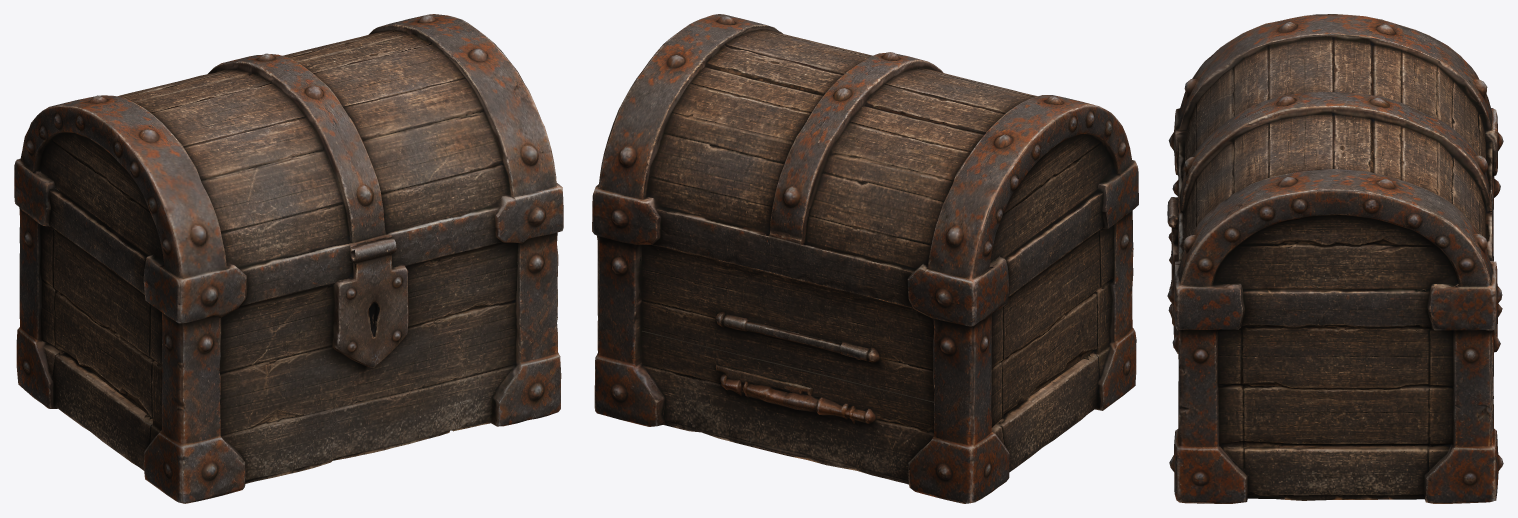
File: ChestSplit.fbx
3 views of the same model, side by side, from view 1: azimuth 30°, elevation 25°; view 2: azimuth 150°, elevation 25°; view 3: azimuth 270°, elevation 25° (orthographic). The views are drawn at different scales.
Visible parts, largest first — view 1: Body, Lid; view 2: Body, Lid; view 3: Lid, Body.
Boxes of the visible parts, x1,y1,x2,y2 form: Body: (14, 186, 563, 503); Lid: (14, 14, 563, 305); Body: (592, 188, 1138, 503); Lid: (592, 14, 1138, 306); Lid: (1167, 14, 1503, 312); Body: (1168, 146, 1503, 503).
Bounding box in the file's own units: 1 × 0.8185 × 0.778.
